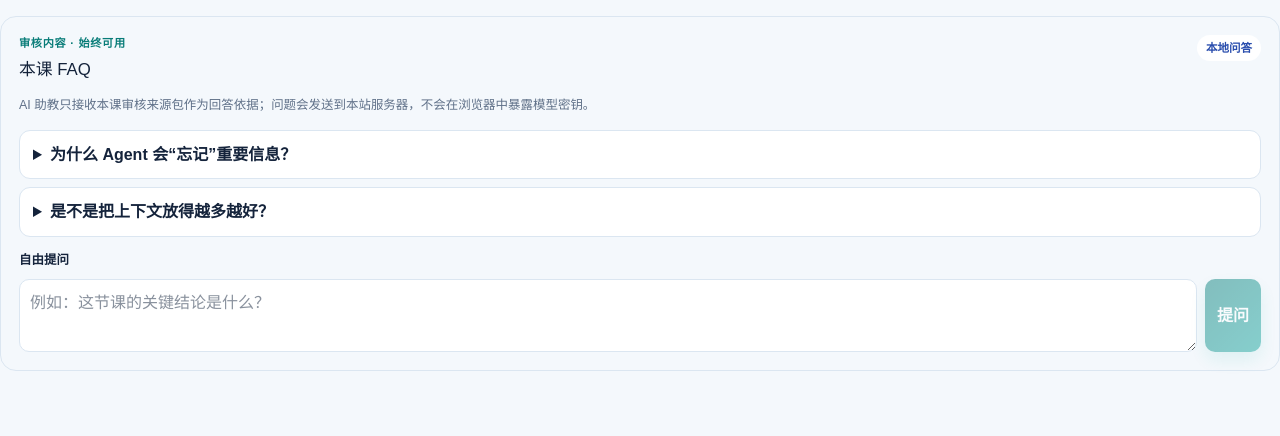
Test: FaqPanel › does not expose raw browser errors when the request cannot connect
Type "怎么判断 Agent 是否可靠？" into the text box labelled "自由提问" at (608, 316), box 19,279 -> 1197,352
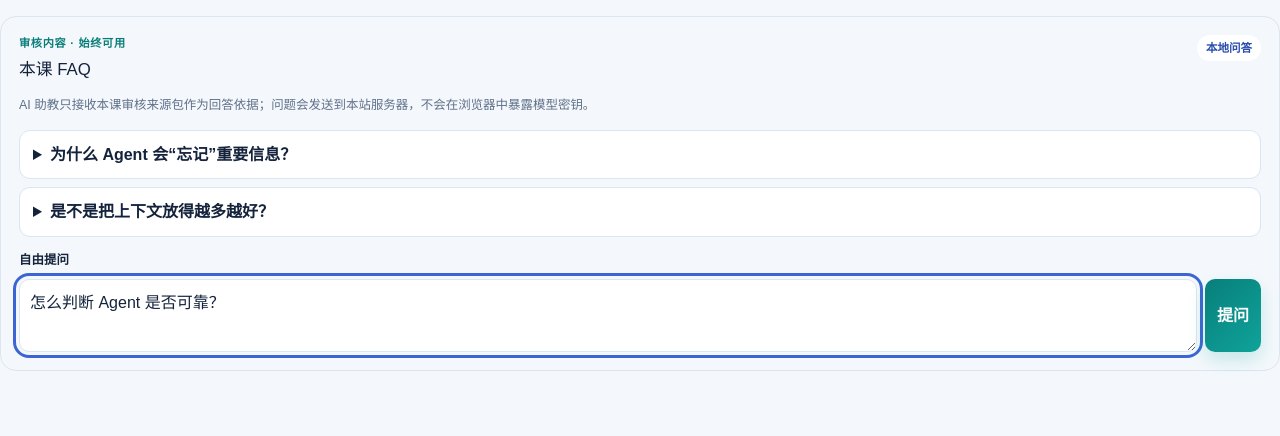
Click the button "提问" at (1233, 316), box 1205,279 -> 1261,352
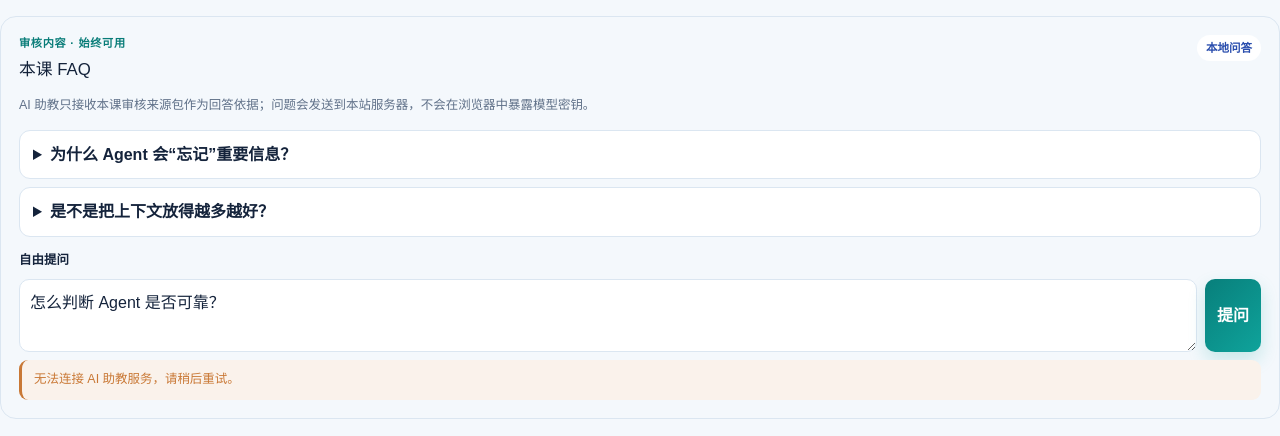
Now the message reads "无法连接 AI 助教服务，请稍后重试。", box 34,372 -> 240,386
